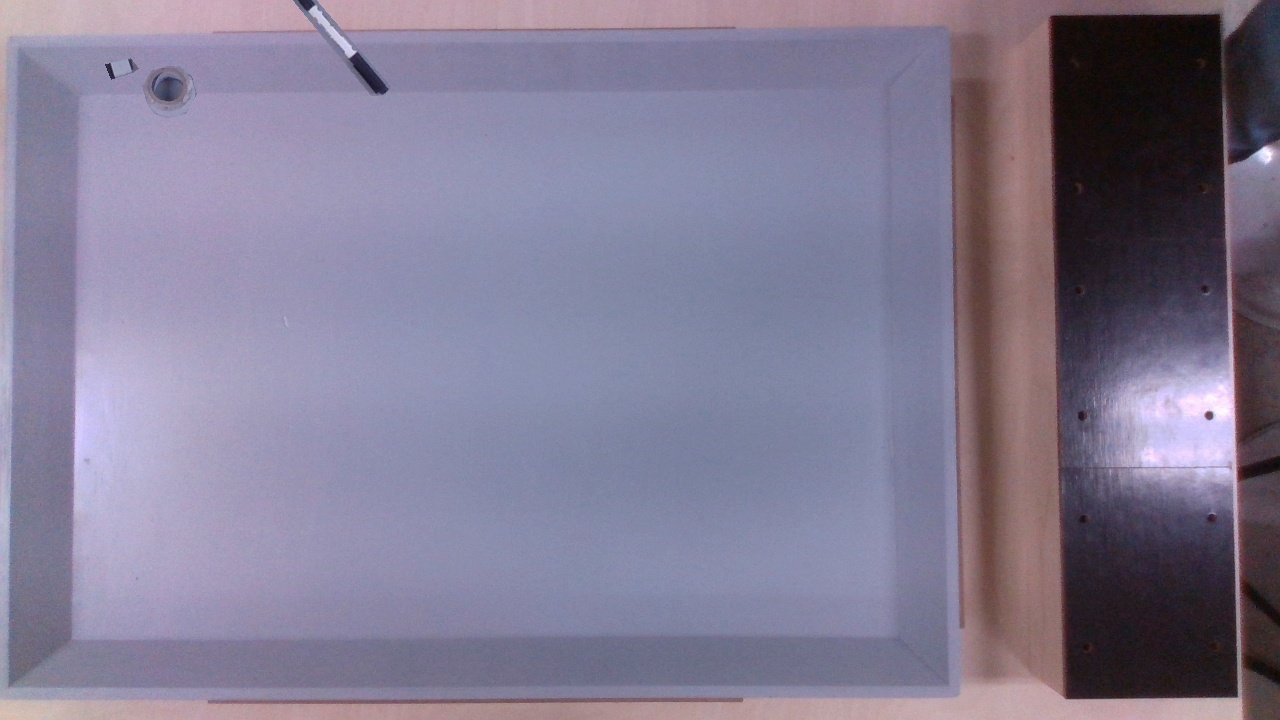Pen_namepen: (293, 0, 390, 95)
Tape_white: (142, 66, 196, 118)
Usb_c: (105, 58, 138, 79)
